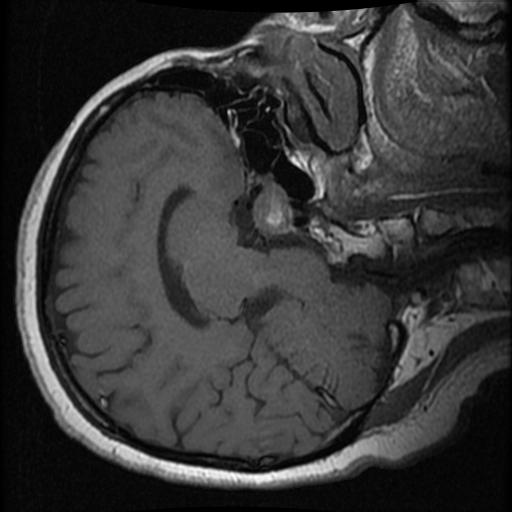pituitary tumour: (255, 177, 294, 235)
